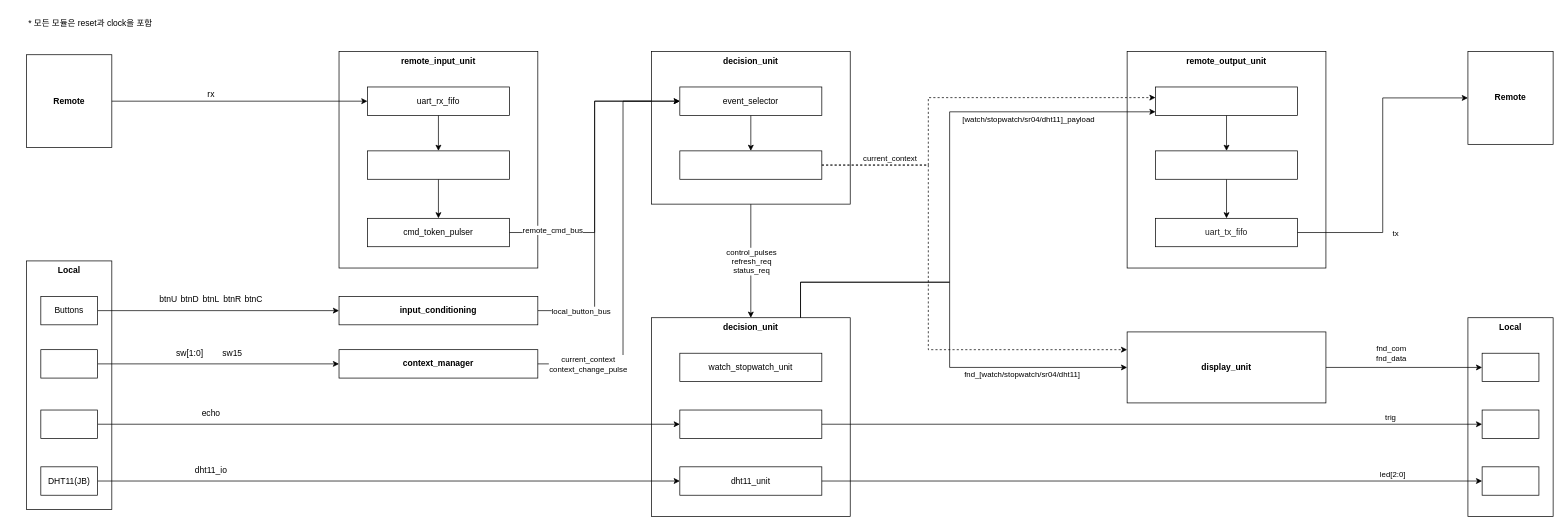
This 1566x529 diagram has some shape labels left out. Each missing label, with the centre of its shape:
action_dispatcher: point 750,164
ascii_command_parser: point 438,164
ascii_log_formatter: point 1226,164
FND: point 1510,367
LED: point 1510,480
log_entry_selector: point 1226,100
SR04 (JA): point 69,423
SR04(JA): point 1510,423
sr04_unit: point 750,423
Switchs: point 69,363
